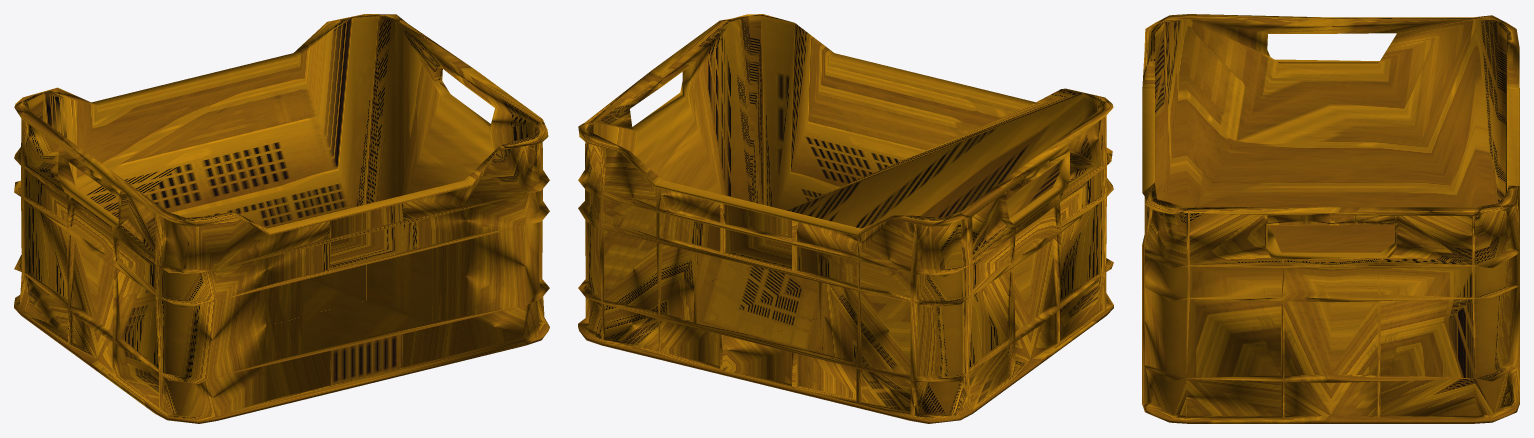
The model's file is recycle_bin.glb.
The picture shows the model from 3 angles, left to right: view 1: azimuth 30°, elevation 25°; view 2: azimuth 150°, elevation 25°; view 3: azimuth 270°, elevation 25°; orthographic projection. The views are drawn at different scales.
Size of the model in its own units: 0.5055 by 0.2541 by 0.4055.
1 material, 1 textured.
